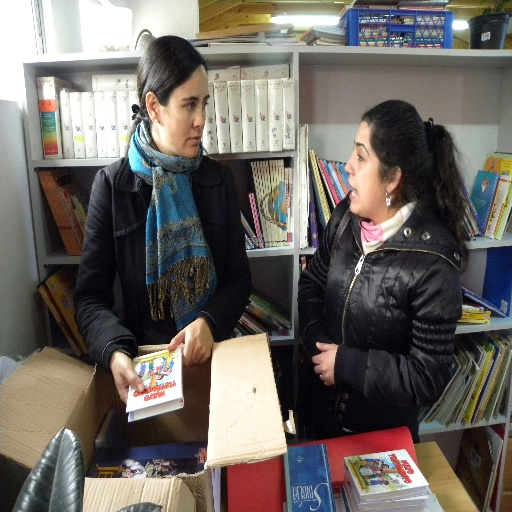hand: (108, 345, 145, 406), (163, 327, 208, 377), (309, 339, 340, 389)
